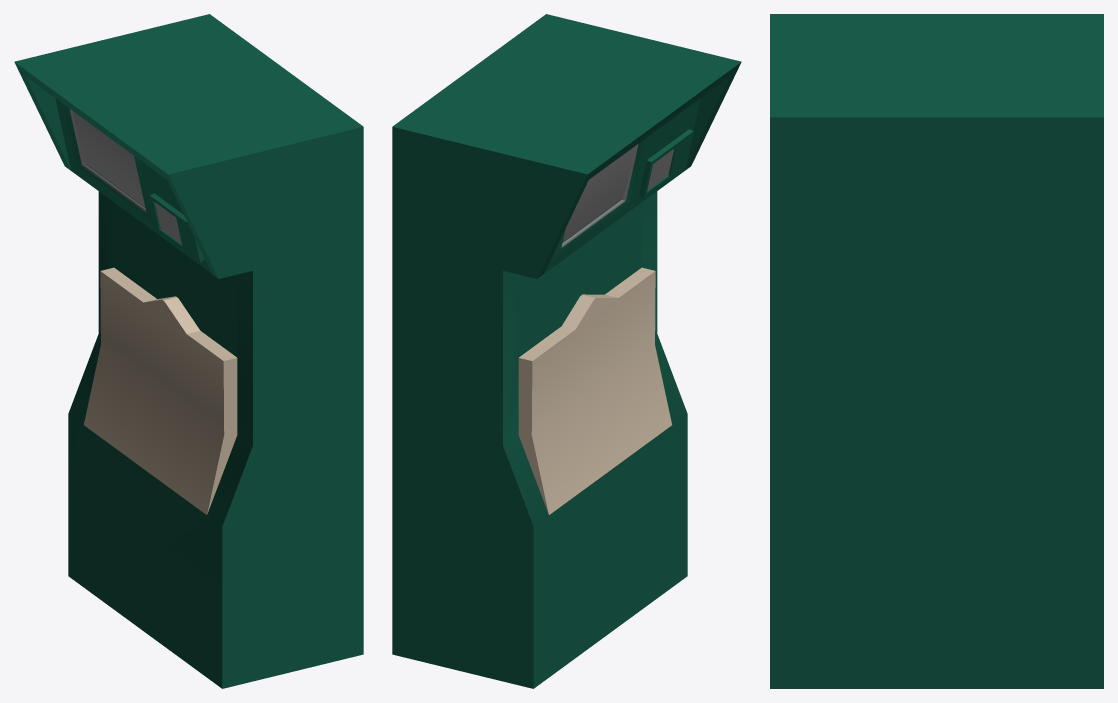
The model's file is StandingConsole.fbx.
3 renders of one model, left to right at view 1: azimuth 30°, elevation 25°; view 2: azimuth 150°, elevation 25°; view 3: azimuth 270°, elevation 25°, orthographic. The views are drawn at different scales.
Visible parts, largest first — view 1: StandingConsole; view 2: StandingConsole; view 3: StandingConsole.
Part boxes in pixels (x1,y1,x2,y2): StandingConsole: (14,14,363,688); StandingConsole: (392,14,741,688); StandingConsole: (770,14,1103,688).
Bounding box in the file's own units: 4.31 × 11.11 × 5.88.
